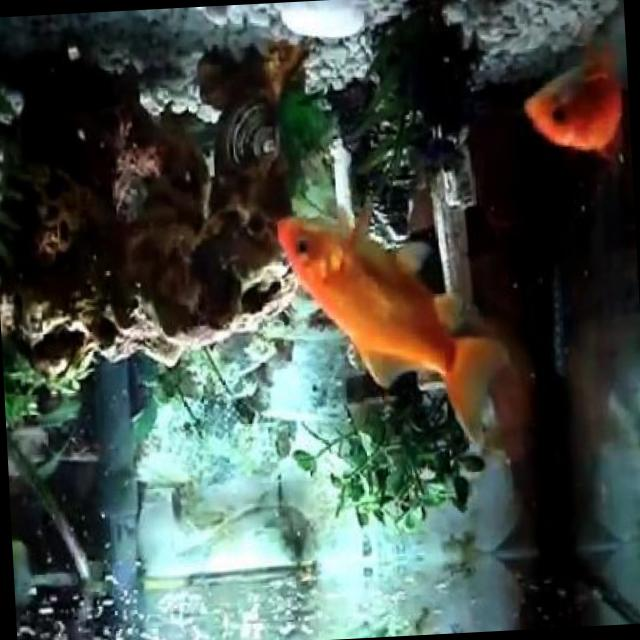GoldFish: (272, 202, 512, 439), (518, 34, 628, 170)
